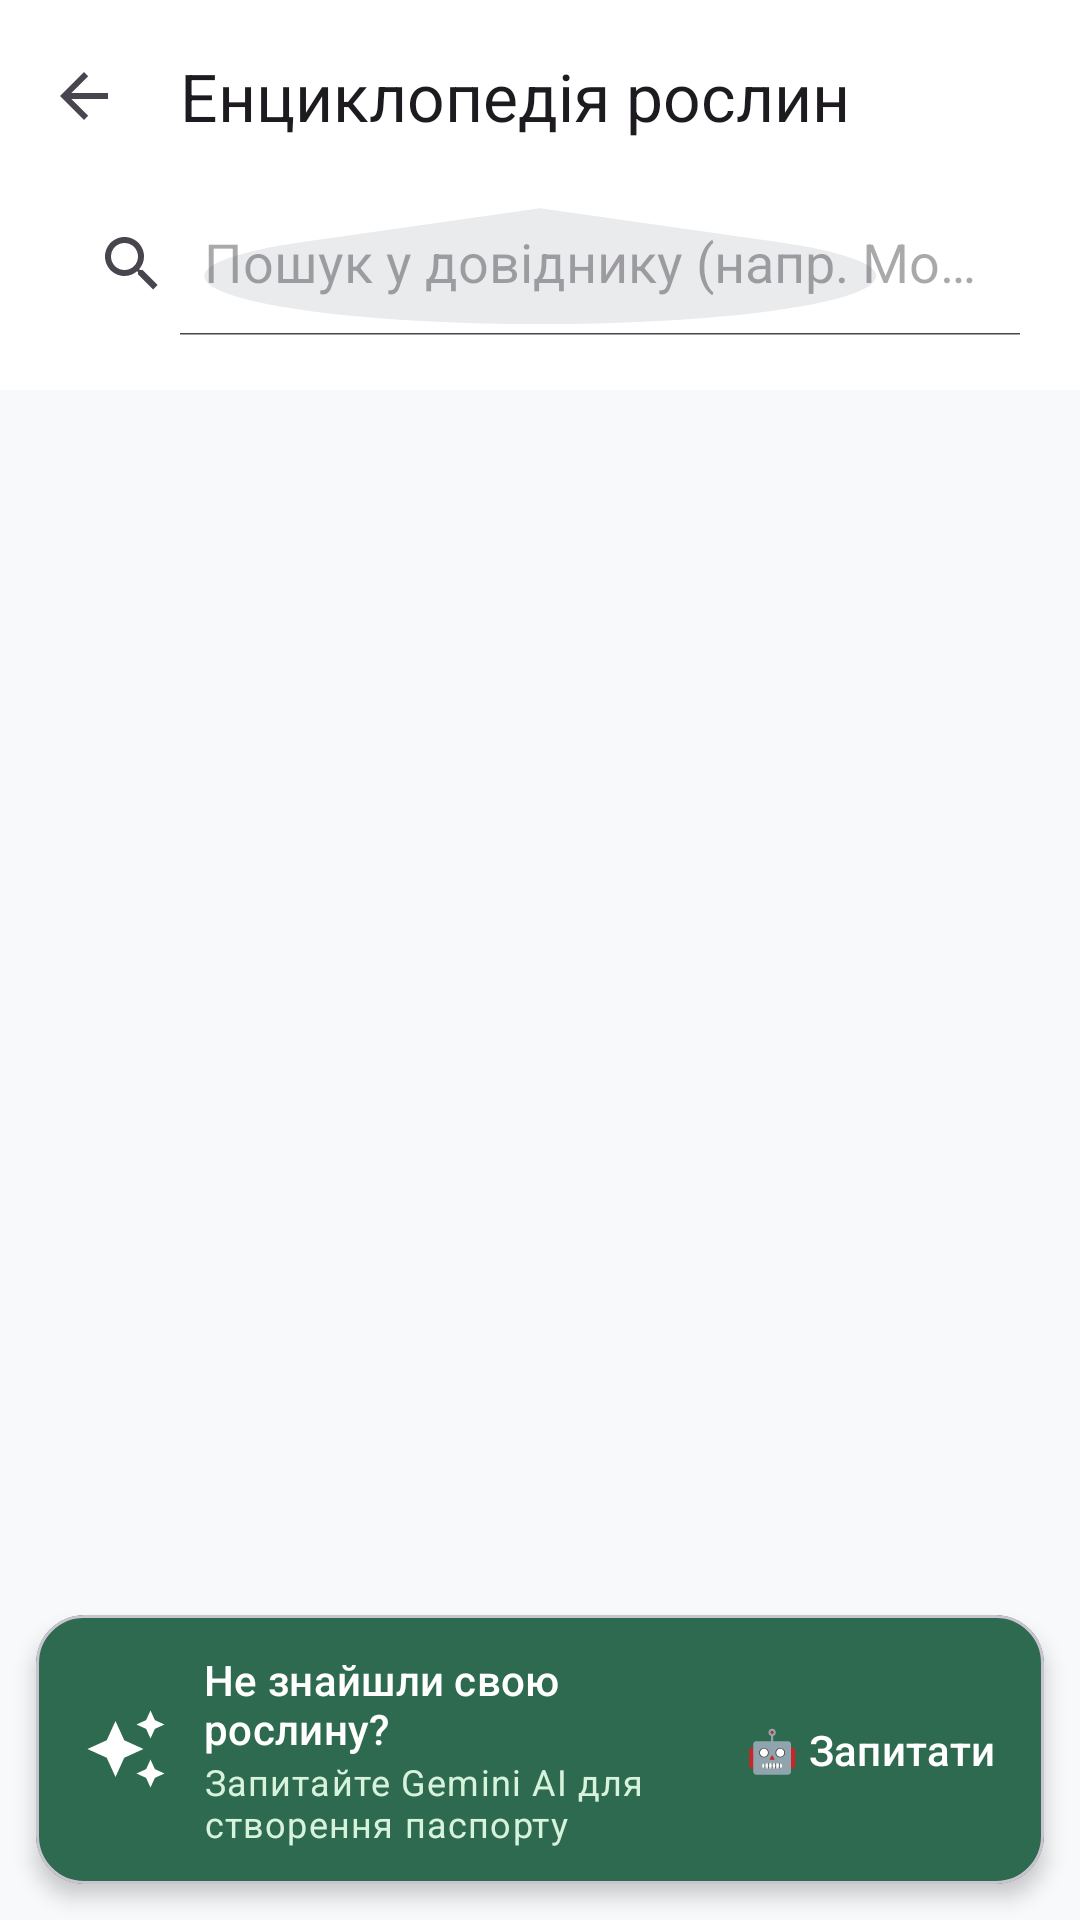

Icon click points for this 1080 x 1920 phone screenshot, format (x,y):
auto awesome: (126,1749)
